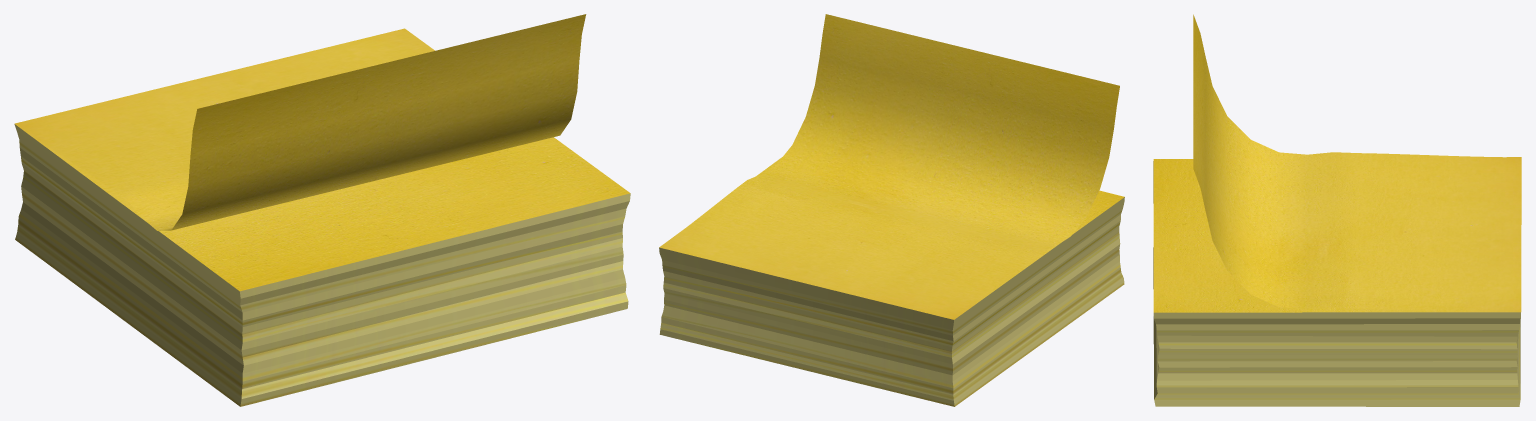
The model's file is postit_stack.fbx.
3 views of the same model, side by side, from view 1: azimuth 30°, elevation 25°; view 2: azimuth 150°, elevation 25°; view 3: azimuth 270°, elevation 25° (orthographic). The views are drawn at different scales.
Visible parts, largest first — view 1: STACK2, FRONT_CURVED; view 2: FRONT_CURVED, STACK2; view 3: FRONT_CURVED, STACK2.
Part boxes in pixels (x1=…): STACK2: x1=14, y1=28, x2=630, y2=406; FRONT_CURVED: x1=16, y1=14, x2=586, y2=230; FRONT_CURVED: x1=667, y1=14, x2=1119, y2=319; STACK2: x1=659, y1=157, x2=1124, y2=406; FRONT_CURVED: x1=1193, y1=14, x2=1520, y2=312; STACK2: x1=1153, y1=157, x2=1521, y2=406.
Bounding box in the file's own units: 210 × 140 × 201.
